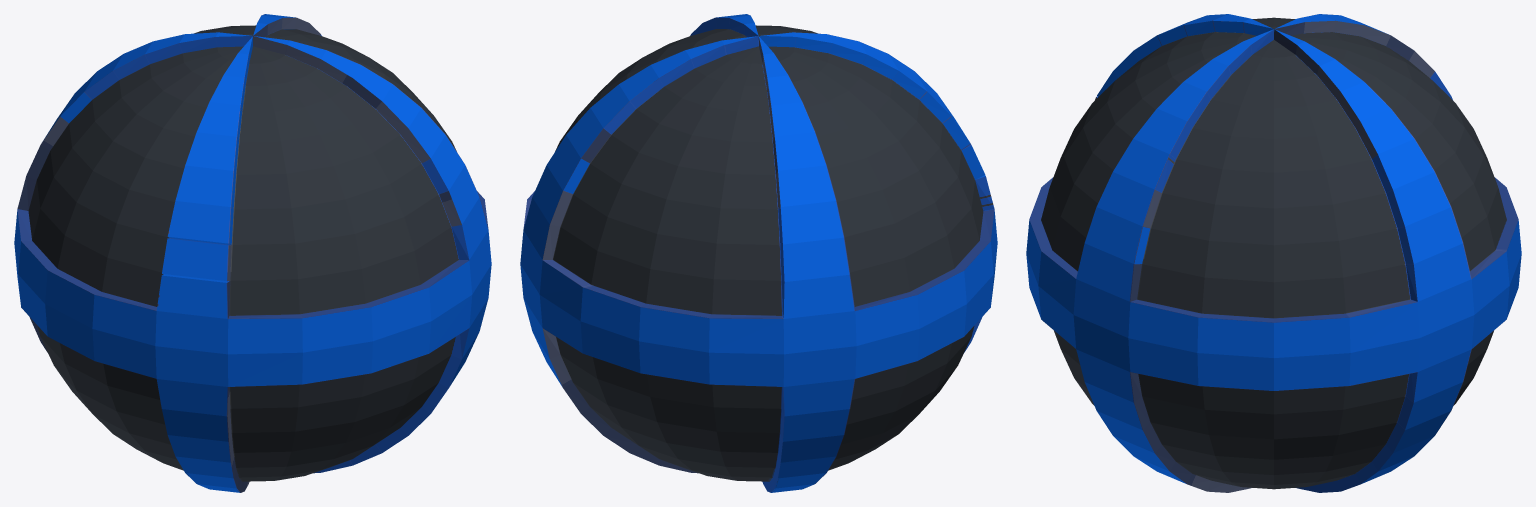
The model's file is playerCharacter.fbx.
3 renders of one model, left to right at view 1: azimuth 30°, elevation 25°; view 2: azimuth 150°, elevation 25°; view 3: azimuth 270°, elevation 25°, orthographic. The views are drawn at different scales.
Visible parts, largest first — view 1: pSphere1; view 2: pSphere1; view 3: pSphere1.
Boxes of the visible parts, box(x1,y1,x2,y2) form: pSphere1: box(14, 14, 491, 492); pSphere1: box(520, 14, 997, 492); pSphere1: box(1026, 14, 1521, 492).
Bounding box in the file's own units: 2.1 × 2.1 × 2.1.
1 material, 1 textured.
